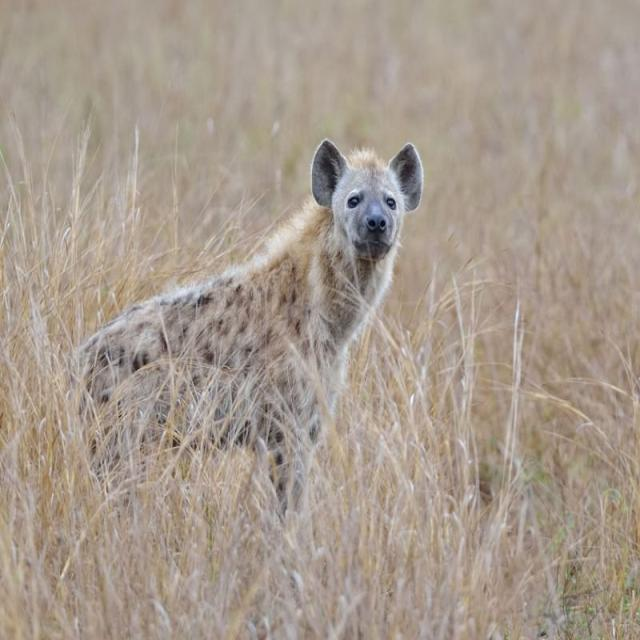Hyena: (43, 136, 432, 519)
